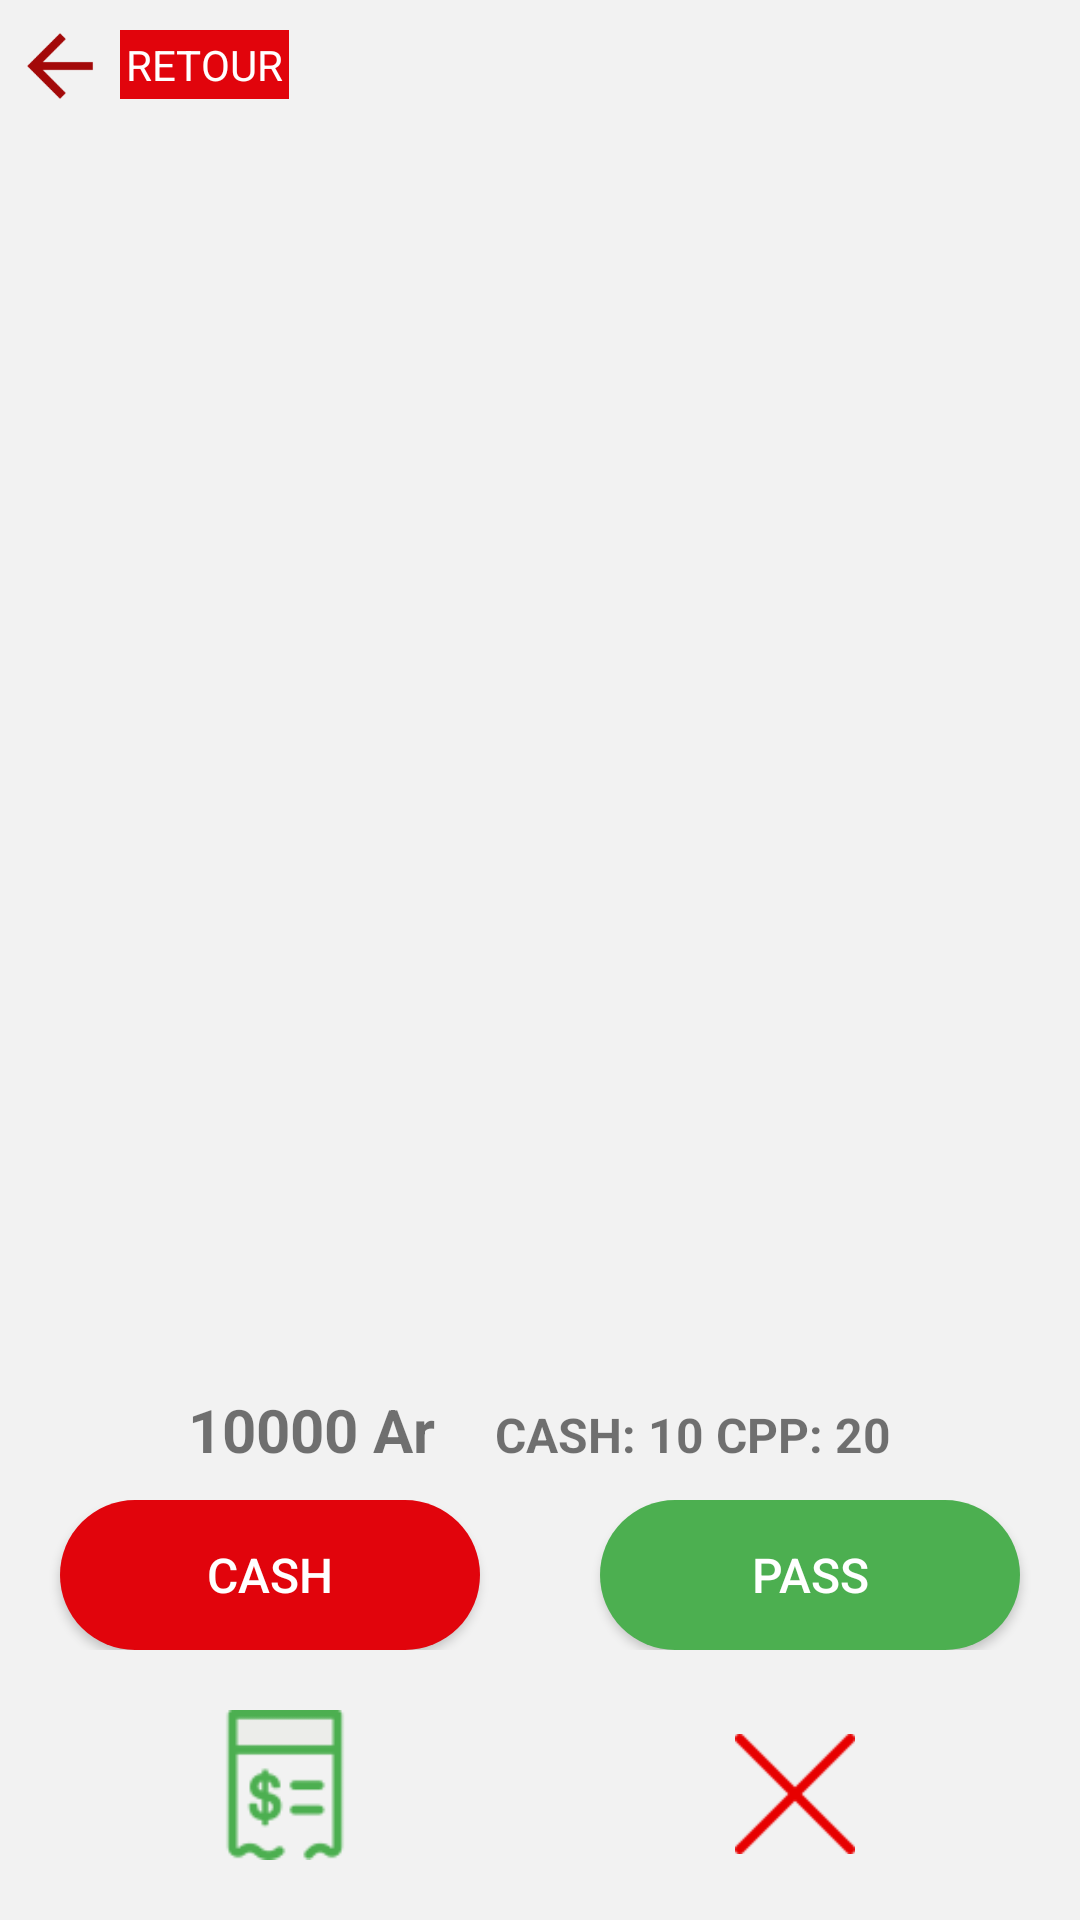

Icon click points for this 1080px×1920px phone screenshot, format [x,y]:
arrow back: [60,66]
cancel: [795,1794]
paid: [285,1785]
